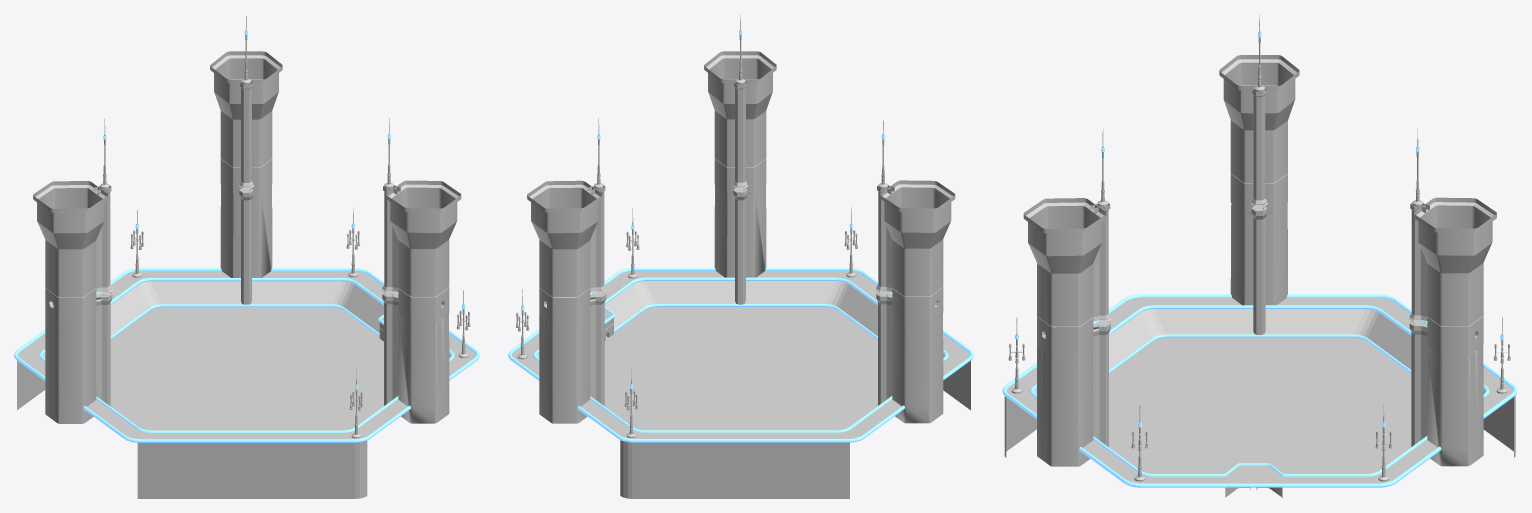
The model's file is SM_Training_original.fbx.
The picture shows the model from 3 angles, left to right: view 1: azimuth 30°, elevation 25°; view 2: azimuth 150°, elevation 25°; view 3: azimuth 270°, elevation 25°; orthographic projection. The views are drawn at different scales.
Visible parts, largest first — view 1: Base Body, Structure_Main.002, Structure_Main.001, Structure_Main.003, Base Lights EXT, Base Lights INT TOP, Structure_Bottom, Structure_Bottom.003, Structure_Bottom.004, Structure_Top.001, Structure_Top.002, Structure_Top.005 (+1 smaller); view 2: Base Body, Structure_Main.001, Structure_Main.003, Structure_Main.002, Base Lights EXT, Base Lights INT TOP, Structure_Bottom.004, Structure_Bottom, Structure_Bottom.003, Structure_Top.005, Structure_Top.001, Structure_Top.002 (+1 smaller); view 3: Base Body, Structure_Main.003, Structure_Main.002, Structure_Main.001, Base Lights EXT, Base Lights INT TOP, Structure_Bottom.004, Structure_Bottom.003, Structure_Bottom, Structure_Top.005, Structure_Top.001, Structure_Top.002 (+2 smaller).
Part boxes in pixels (x1=…): Base Body: x1=17, y1=271, x2=475, y2=498; Structure_Main.002: x1=386, y1=180, x2=461, y2=423; Structure_Main.001: x1=33, y1=181, x2=108, y2=423; Structure_Main.003: x1=210, y1=51, x2=282, y2=277; Base Lights EXT: x1=14, y1=268, x2=479, y2=442; Base Lights INT TOP: x1=39, y1=278, x2=454, y2=432; Structure_Bottom: x1=96, y1=291, x2=112, y2=406; Structure_Bottom.003: x1=382, y1=291, x2=398, y2=405; Structure_Bottom.004: x1=239, y1=187, x2=253, y2=304; Structure_Top.001: x1=93, y1=185, x2=112, y2=292; Structure_Top.002: x1=382, y1=185, x2=400, y2=291; Structure_Top.005: x1=239, y1=81, x2=253, y2=186; Base Body: x1=512, y1=271, x2=970, y2=498; Structure_Main.001: x1=880, y1=180, x2=955, y2=423; Structure_Main.003: x1=527, y1=180, x2=602, y2=423; Structure_Main.002: x1=704, y1=51, x2=776, y2=277; Base Lights EXT: x1=508, y1=268, x2=973, y2=442; Base Lights INT TOP: x1=533, y1=277, x2=948, y2=432; Structure_Bottom.004: x1=590, y1=291, x2=606, y2=405; Structure_Bottom: x1=876, y1=291, x2=892, y2=405; Structure_Bottom.003: x1=733, y1=187, x2=747, y2=304; Structure_Top.005: x1=587, y1=185, x2=606, y2=292; Structure_Top.001: x1=876, y1=185, x2=894, y2=291; Structure_Top.002: x1=733, y1=81, x2=747, y2=186; Base Body: x1=1004, y1=297, x2=1515, y2=483; Structure_Main.003: x1=1414, y1=197, x2=1496, y2=466; Structure_Main.002: x1=1023, y1=198, x2=1106, y2=466; Structure_Main.001: x1=1219, y1=55, x2=1299, y2=305; Base Lights EXT: x1=1002, y1=294, x2=1517, y2=487; Base Lights INT TOP: x1=1030, y1=305, x2=1489, y2=476; Structure_Bottom.004: x1=1409, y1=320, x2=1427, y2=446; Structure_Bottom.003: x1=1093, y1=320, x2=1110, y2=446; Structure_Bottom: x1=1251, y1=205, x2=1267, y2=334; Structure_Top.005: x1=1409, y1=203, x2=1429, y2=320; Structure_Top.001: x1=1251, y1=88, x2=1267, y2=204; Structure_Top.002: x1=1090, y1=203, x2=1110, y2=321.
Size of the model in its own units: 378 by 312 by 399.
